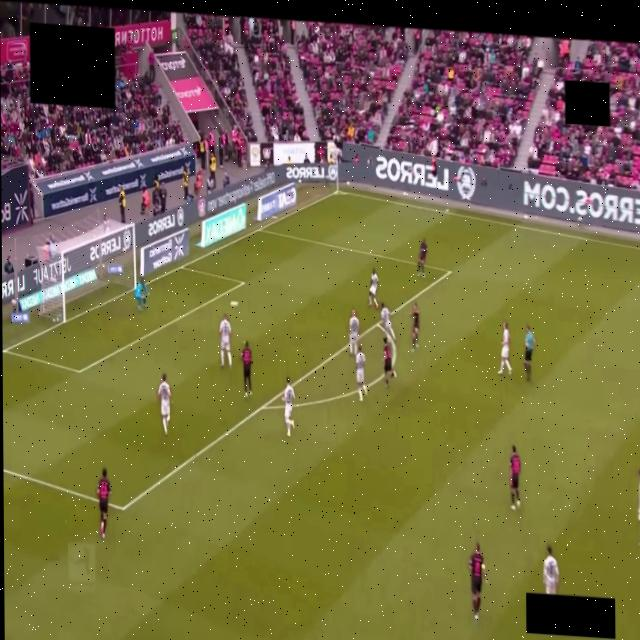ball: (231, 301, 239, 306)
player: (469, 543, 485, 620), (97, 469, 110, 539), (157, 374, 170, 434), (543, 545, 558, 595), (497, 322, 511, 375), (509, 445, 520, 510), (283, 377, 294, 436), (219, 315, 231, 368), (355, 346, 366, 401), (240, 342, 251, 397), (383, 337, 395, 387), (380, 304, 394, 341), (134, 277, 148, 311), (348, 310, 358, 355), (417, 239, 427, 277), (368, 269, 377, 308), (411, 305, 418, 350), (637, 469, 639, 522)
referee: (524, 326, 535, 381)
